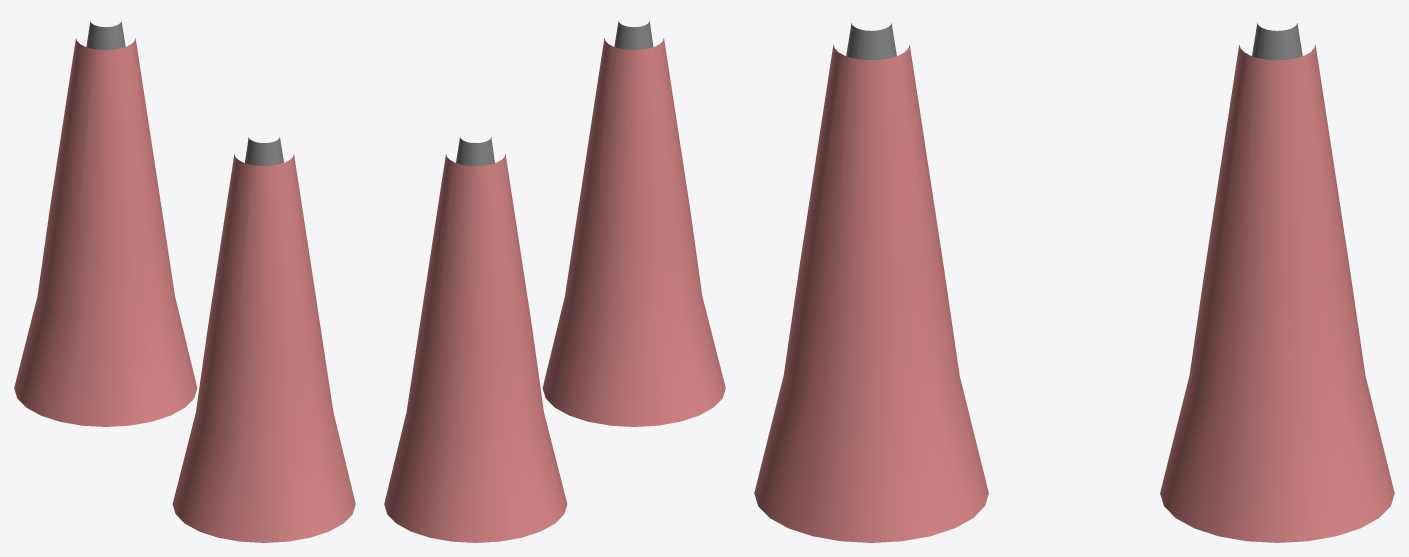
File: AmbientBoost_Force_SM.gltf
3 renders of one model, left to right at view 1: azimuth 30°, elevation 25°; view 2: azimuth 150°, elevation 25°; view 3: azimuth 270°, elevation 25°, orthographic. The views are drawn at different scales.
Parts seen in each view (by area): view 1: AmbientBoost_Force_SM; view 2: AmbientBoost_Force_SM; view 3: AmbientBoost_Force_SM.
Part boxes in pixels (x1,y1,x2,y2): AmbientBoost_Force_SM: (14, 21, 355, 542); AmbientBoost_Force_SM: (384, 21, 725, 542); AmbientBoost_Force_SM: (754, 23, 1394, 542).
Bounding box in the file's own units: 0.0293 × 0.065 × 0.0799.
